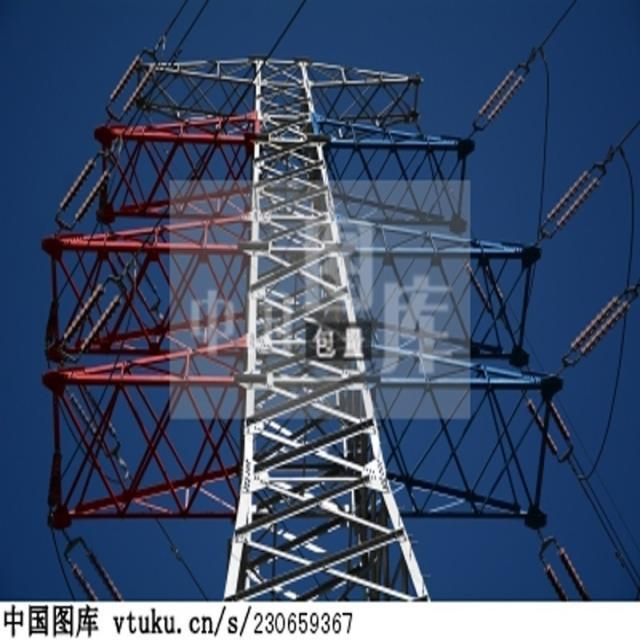non-critical vegetation: (62, 23, 560, 600)
